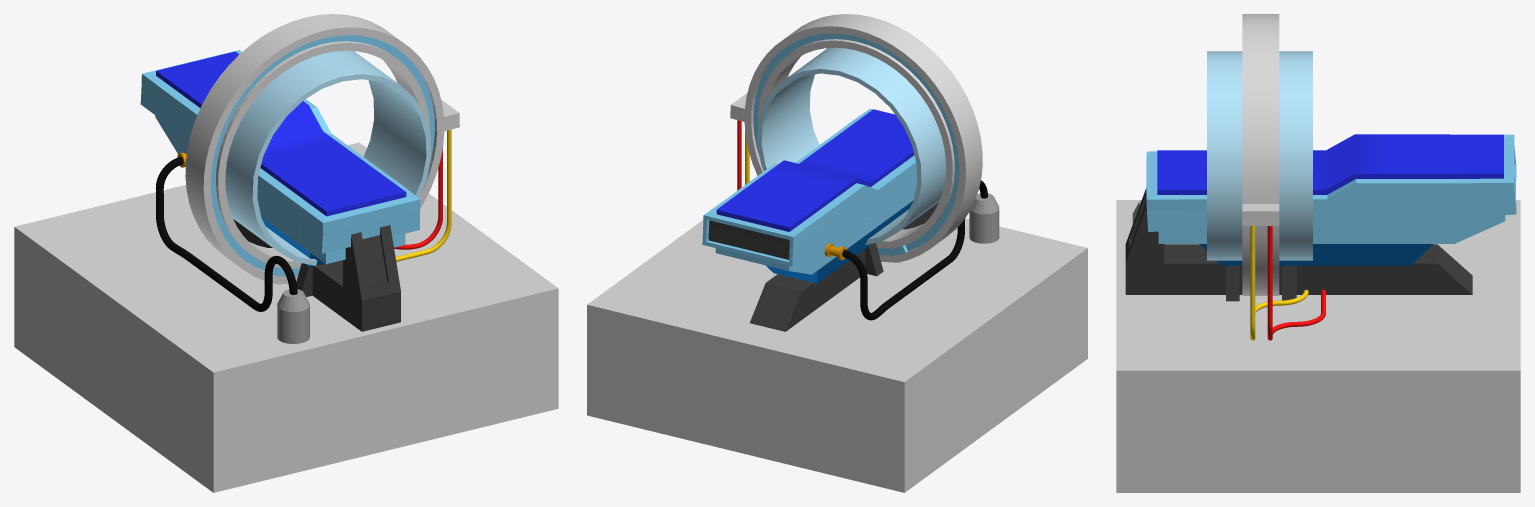
The model's file is SciFi_Bed.fbx.
3 views of the same model, side by side, from view 1: azimuth 30°, elevation 25°; view 2: azimuth 150°, elevation 25°; view 3: azimuth 270°, elevation 25° (orthographic). The views are drawn at different scales.
Parts seen in each view (by area): view 1: Floor_low005, Floor_low002, Bed, MetalRing, Floor_low001, Floor_low004, Floor_low003, Glass, MetalBase, Floor_low (×3), Canister, BlackPipe004; view 2: Floor_low (×4), Floor_low004, Bed, MetalRing, Floor_low003, Floor_low005, Glass, MetalBase, Canister, BlueBase, Floor_low001, BlackPipe004; view 3: Floor_low (×4), Bed, Floor_low002, Glass, MetalBase, MetalRing, Floor_low001, BlueBase, Floor_low004, Floor_low005, YellowWire004, RedWire000.
Boxes of the visible parts, x1=… form: Floor_low005: x1=147, y1=296, x2=328, y2=492; Floor_low002: x1=396, y1=240, x2=558, y2=436; Bed: x1=140, y1=50, x2=420, y2=264; MetalRing: x1=185, y1=14, x2=459, y2=284; Floor_low001: x1=262, y1=285, x2=443, y2=464; Floor_low004: x1=14, y1=198, x2=195, y2=395; Floor_low003: x1=80, y1=247, x2=261, y2=443; Glass: x1=225, y1=50, x2=430, y2=265; MetalBase: x1=233, y1=219, x2=400, y2=331; Floor_low (×3): x1=130, y1=185, x2=491, y2=295; Canister: x1=277, y1=289, x2=309, y2=343; BlackPipe004: x1=185, y1=253, x2=257, y2=308; Floor_low (×4): x1=587, y1=220, x2=920, y2=466; Floor_low004: x1=798, y1=311, x2=965, y2=492; Bed: x1=702, y1=108, x2=917, y2=274; MetalRing: x1=730, y1=14, x2=982, y2=262; Floor_low003: x1=860, y1=267, x2=1026, y2=447; Floor_low005: x1=921, y1=226, x2=1087, y2=403; Glass: x1=757, y1=47, x2=945, y2=244; MetalBase: x1=750, y1=202, x2=938, y2=331; Canister: x1=969, y1=193, x2=999, y2=243; BlueBase: x1=766, y1=200, x2=913, y2=283; Floor_low001: x1=901, y1=218, x2=969, y2=266; BlackPipe004: x1=887, y1=255, x2=952, y2=306; Floor_low (×4): x1=1251, y1=256, x2=1520, y2=492; Bed: x1=1146, y1=134, x2=1516, y2=243; Floor_low002: x1=1116, y1=313, x2=1250, y2=492; Glass: x1=1207, y1=51, x2=1312, y2=260; MetalBase: x1=1125, y1=188, x2=1472, y2=301; MetalRing: x1=1242, y1=14, x2=1279, y2=295; Floor_low001: x1=1116, y1=256, x2=1250, y2=313; BlueBase: x1=1199, y1=244, x2=1433, y2=265; Floor_low004: x1=1434, y1=200, x2=1520, y2=256; Floor_low005: x1=1116, y1=200, x2=1198, y2=256; YellowWire004: x1=1250, y1=226, x2=1255, y2=323; RedWire000: x1=1267, y1=226, x2=1272, y2=323.
Bounding box in the file's own units: 119 × 123 × 118.
